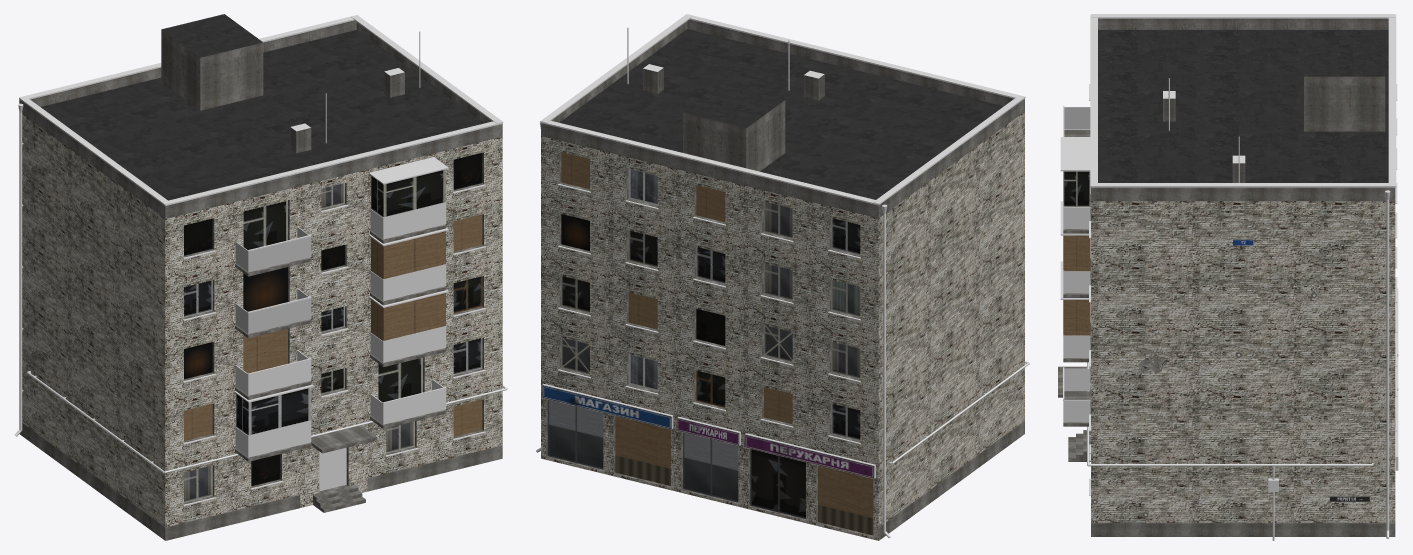
Rendered from S1U_KH_Brickshop.fbx.
3 views of the same model, side by side, from view 1: azimuth 30°, elevation 25°; view 2: azimuth 150°, elevation 25°; view 3: azimuth 270°, elevation 25° (orthographic). The views are drawn at different scales.
Parts seen in each view (by area): view 1: S1U_KH_Brickshop; view 2: S1U_KH_Brickshop; view 3: S1U_KH_Brickshop.
Part boxes in pixels (left/top/right/bottom): S1U_KH_Brickshop: left=14, top=14, right=507, bottom=540; S1U_KH_Brickshop: left=536, top=14, right=1029, bottom=540; S1U_KH_Brickshop: left=1058, top=14, right=1398, bottom=540.
Bounding box in the file's own units: 16.79 × 17.25 × 13.44.
